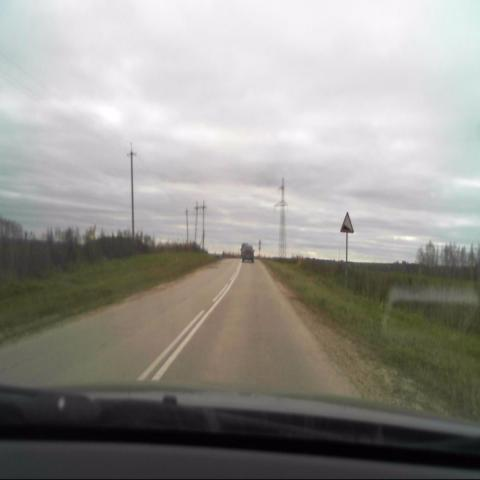1_13: (340, 211, 354, 233)
